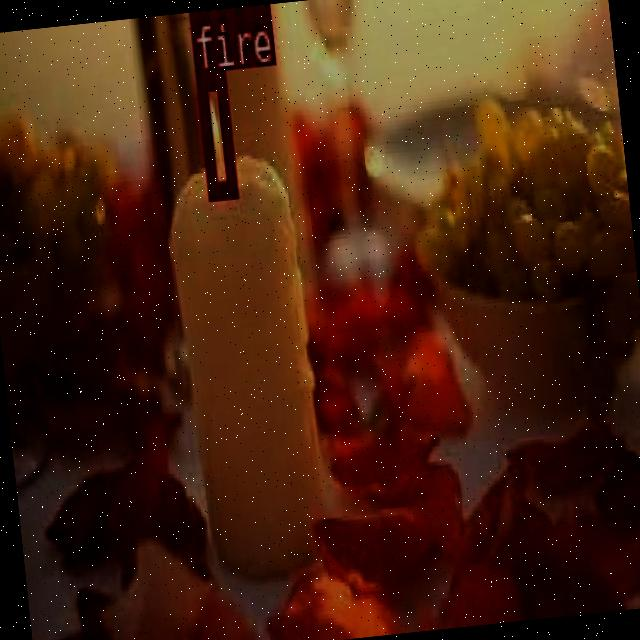fire: (194, 69, 235, 196)
